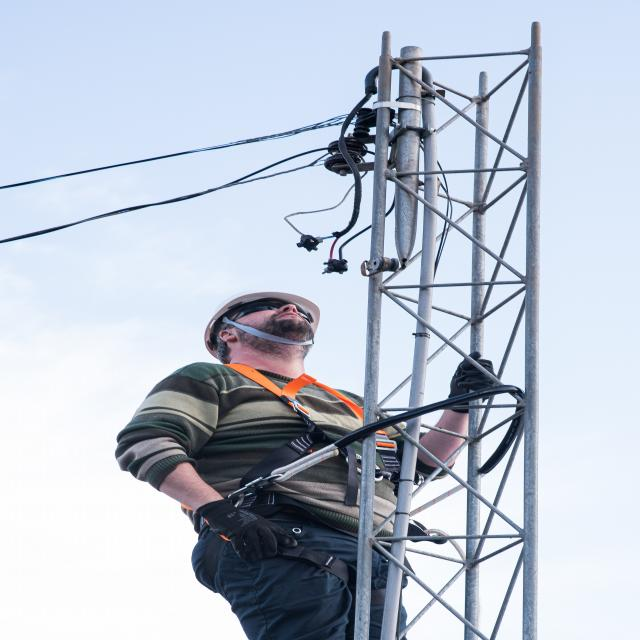corda de vida: (172, 357, 416, 624)
luva: (190, 496, 296, 566), (442, 348, 500, 421)
